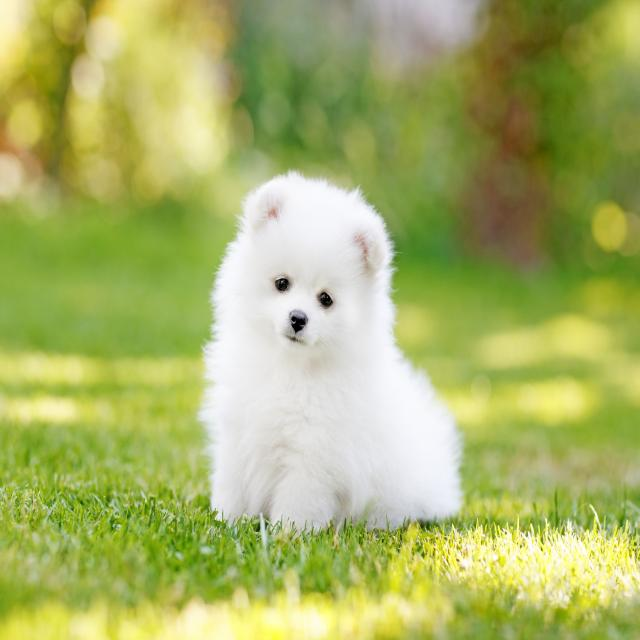Dog: (188, 168, 465, 526)
